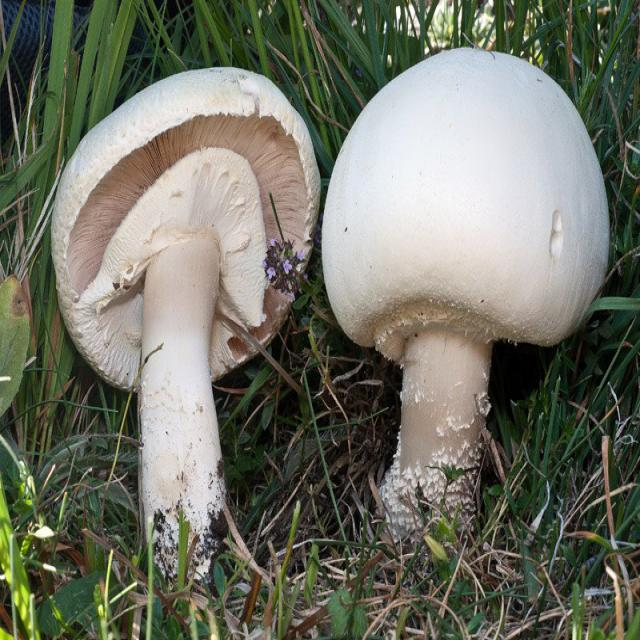Agaricus bisporus: (325, 48, 611, 572), (52, 63, 320, 591)
